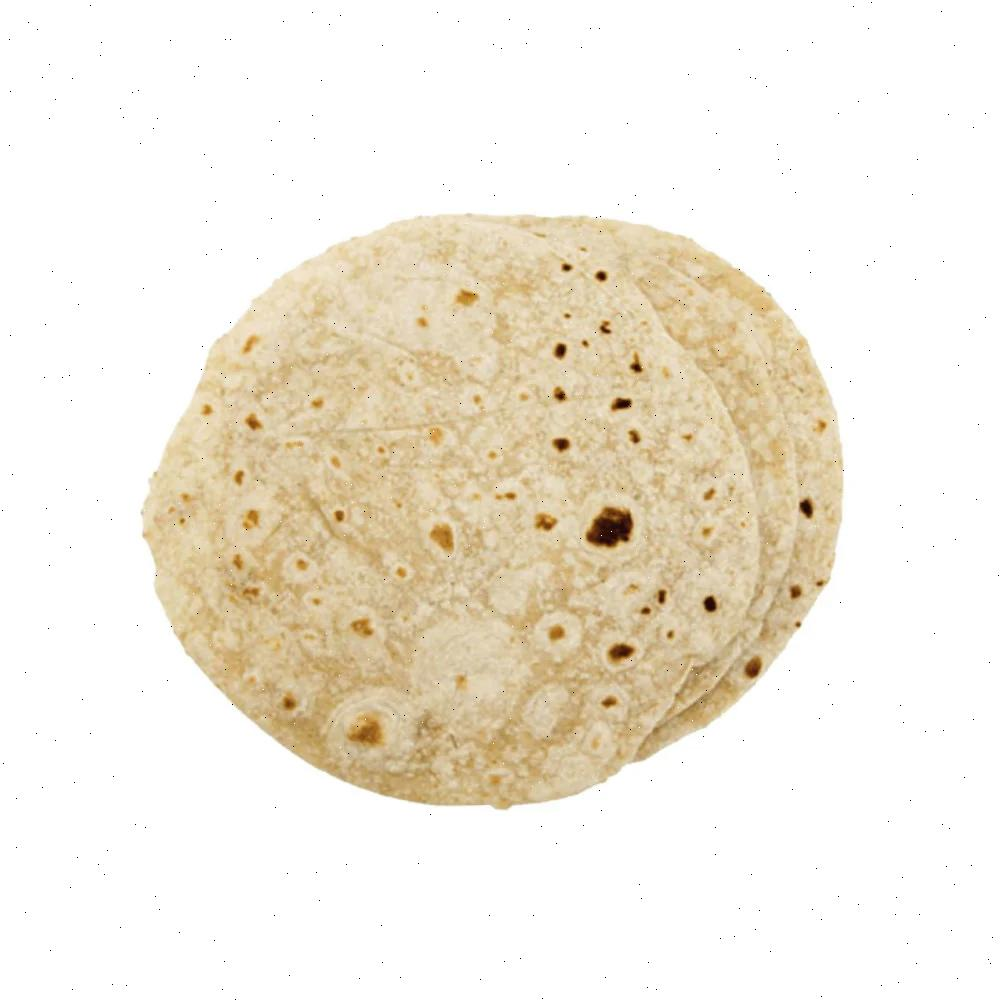roti phulka: (141, 208, 845, 800)
